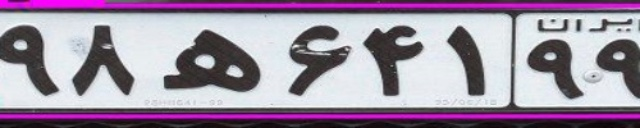1: (448, 25, 488, 95)
4: (360, 25, 424, 94)
6: (289, 24, 352, 96)
8: (70, 22, 138, 96)
9: (0, 22, 59, 96), (526, 38, 584, 98), (594, 38, 639, 99)
he: (159, 27, 262, 92)
